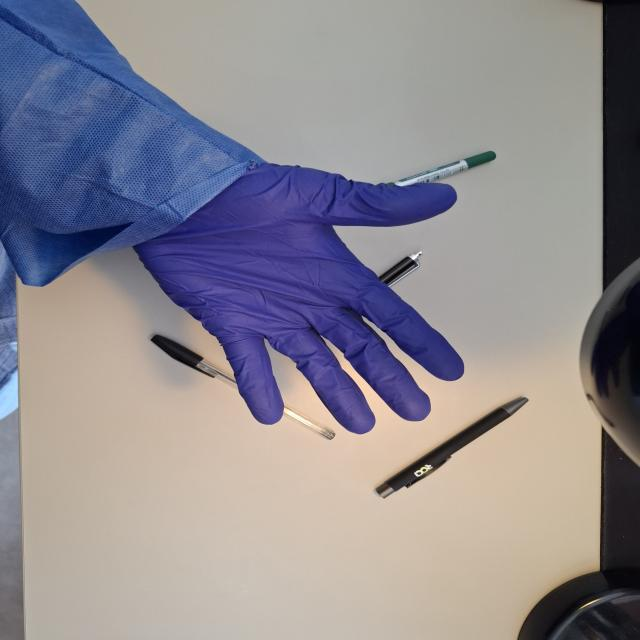glove_on: (124, 160, 468, 436)
